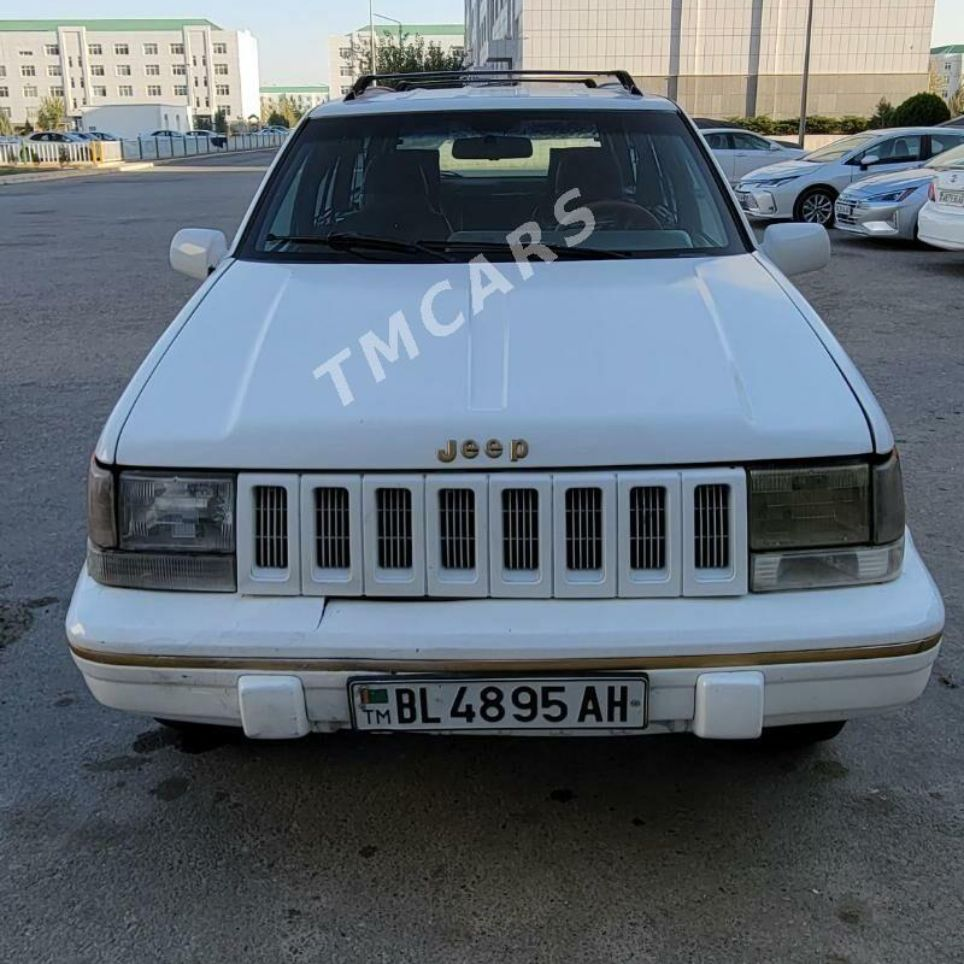license plate: (344, 677, 645, 734)
truck: (62, 99, 946, 755)
